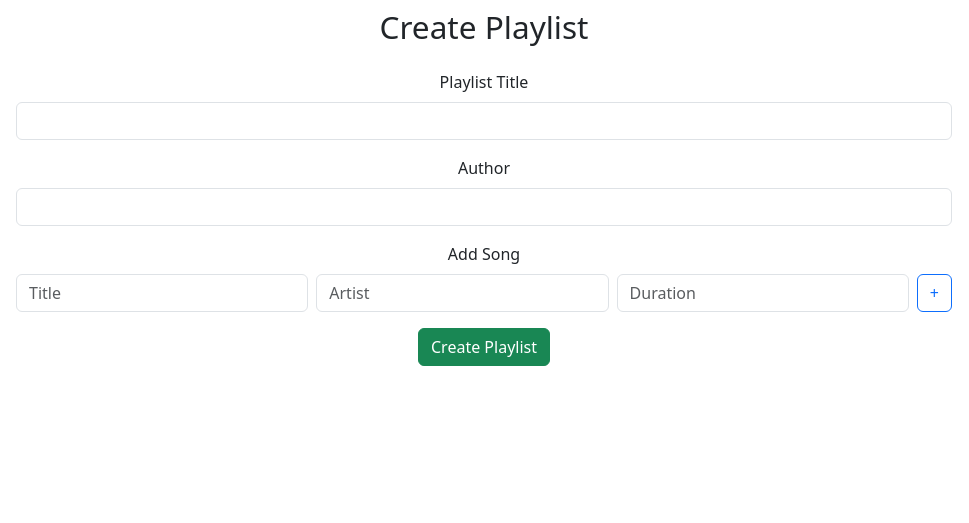
Test: CreatePlaylist Component › submits the form and shows success message
In the field labelled "Playlist Title": [484, 121] box [16,102,952,140], type "My Playlist"
In the field labelled "Author": [484, 207] box [16,188,952,226], type "John Doe"
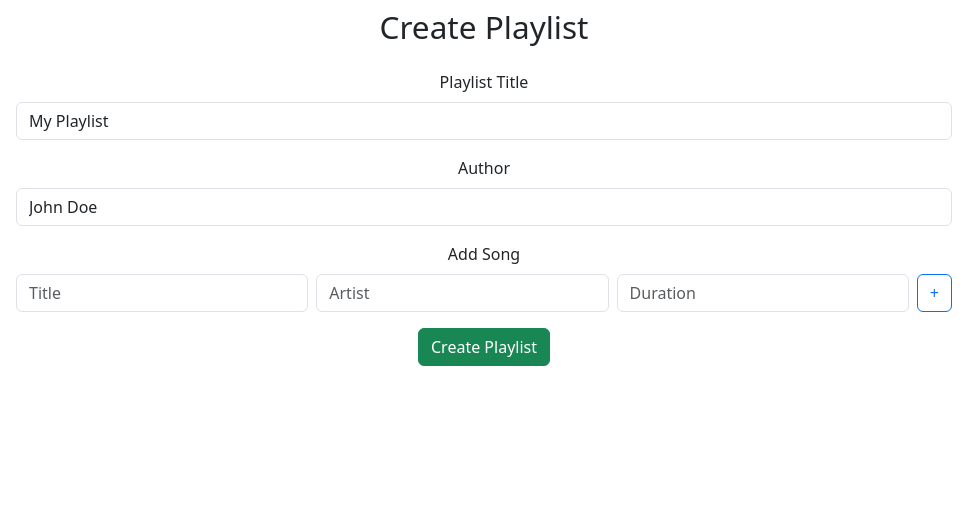
In the field with placeholder "Title": [162, 293] box [16,274,308,312], type "Song B"
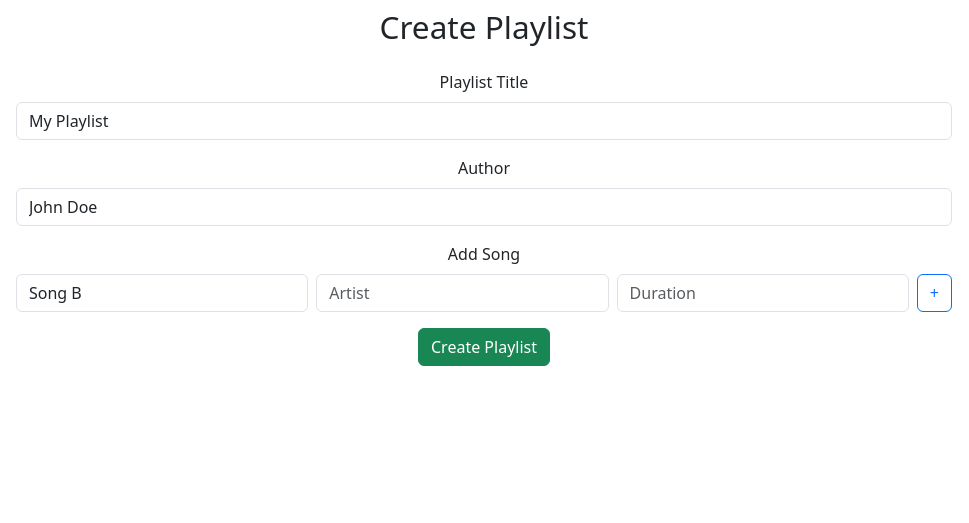
In the field with placeholder "Artist": [462, 293] box [316,274,609,312], type "Artist B"
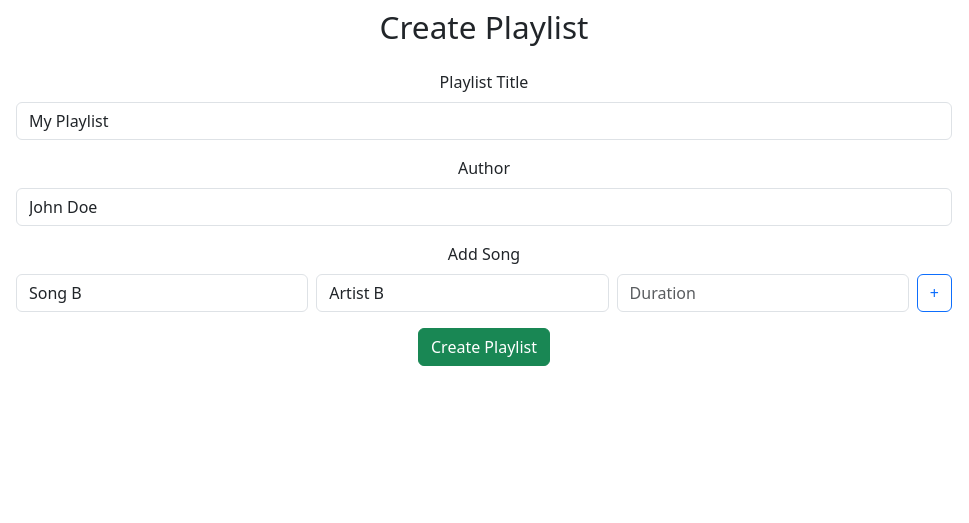
In the field with placeholder "Duration": [763, 293] box [617,274,909,312], type "4:00"
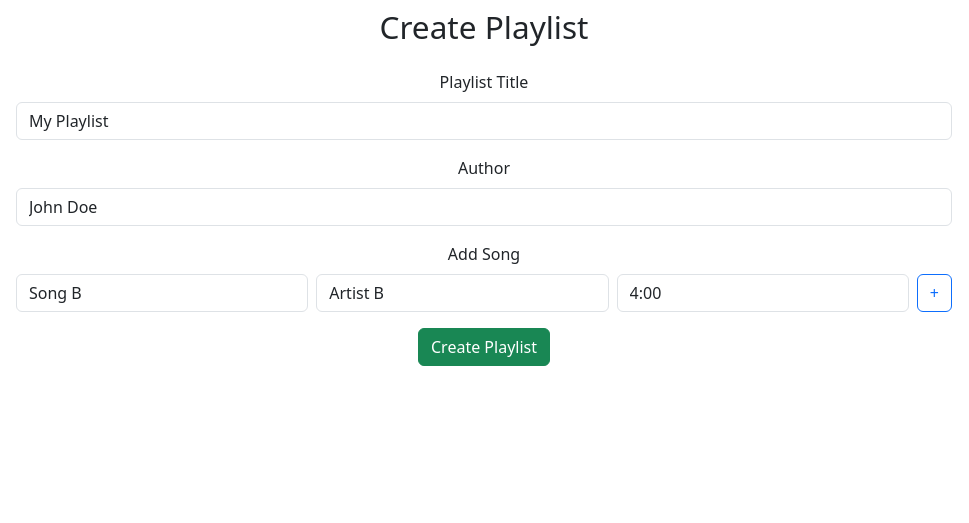
Click the button "+": [934, 293] box [917,274,952,312]
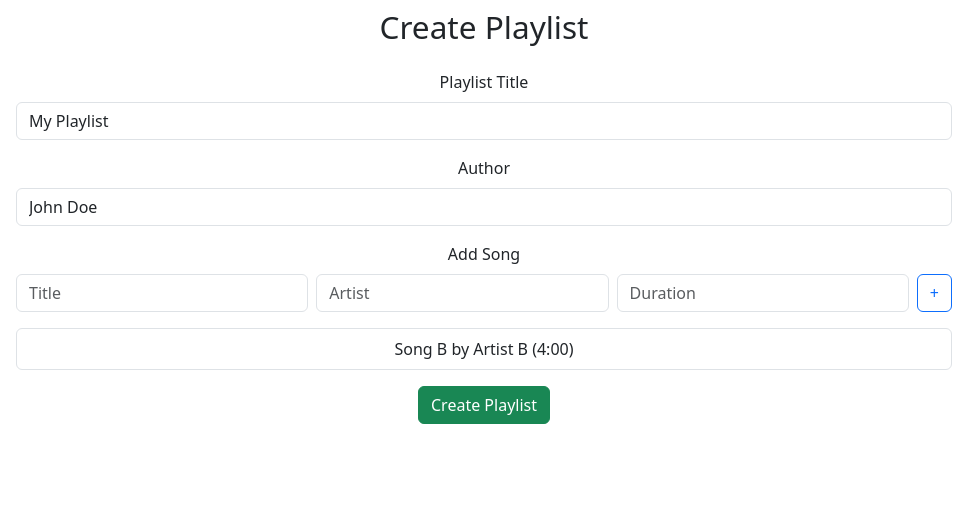
Click the button "Create Playlist": [484, 405] box [418,386,550,424]
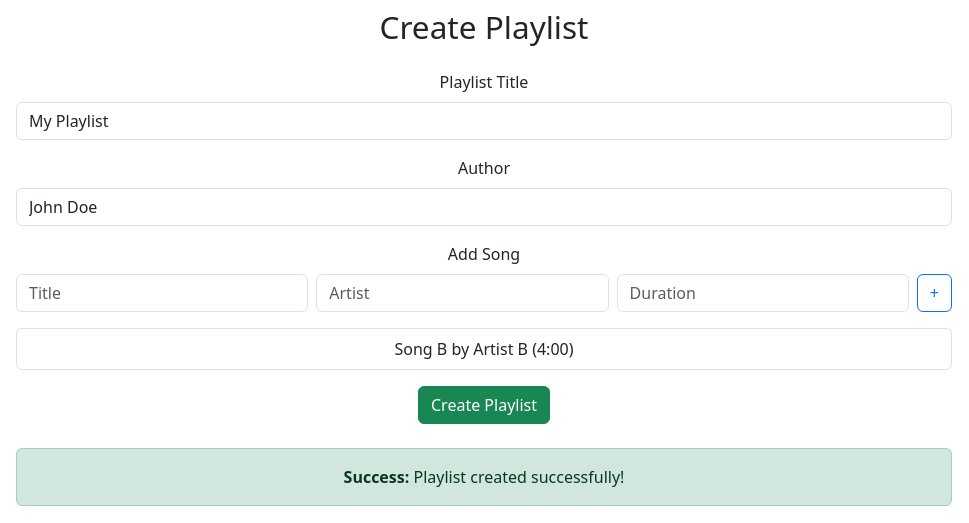
Check: the text "Success: Playlist created successfully!" is shown, box [16,448,952,506]
